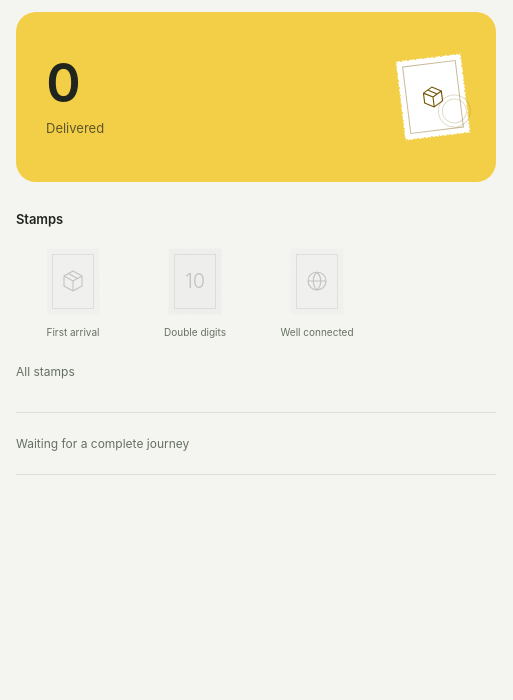
Passport journal › reveals all twelve stamps on request and keeps Century club out of the collection
This screenshot has width=513, height=700.
Click the button "All stamps": coordinates (45, 372) [16,350,75,394]
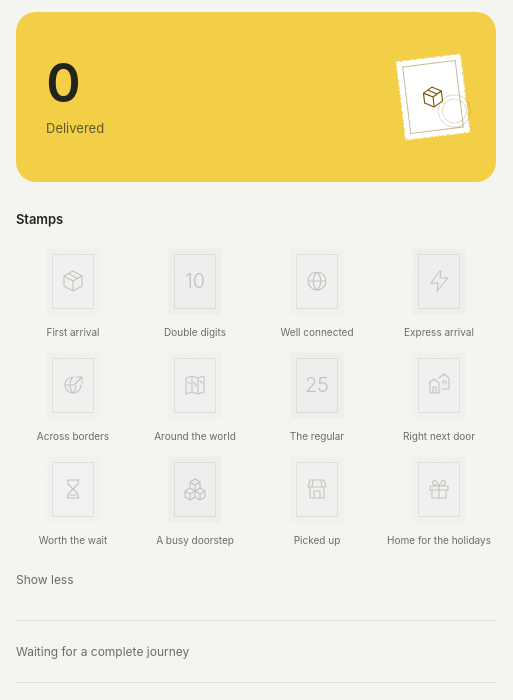
Expected: the number of buttons with class "stamp-card" is 12
Click the button "Show less": coordinates (45, 580) [16,558,74,602]
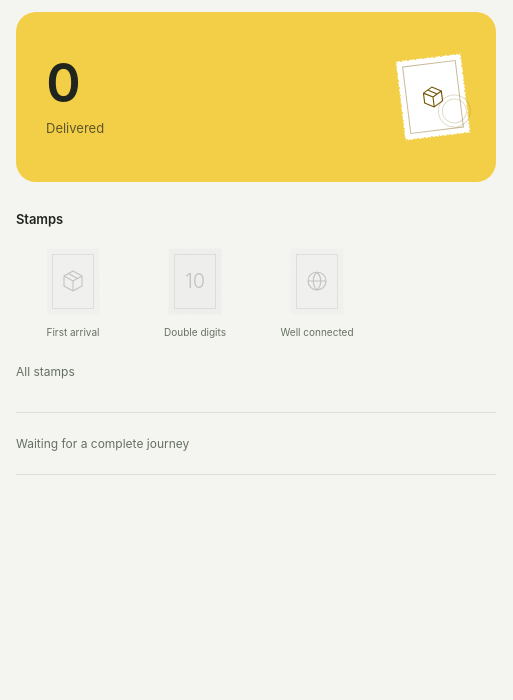
Expected: the number of buttons with class "stamp-card" is 3, [16,246,130,342]; [138,246,252,342]; [260,246,374,342]
